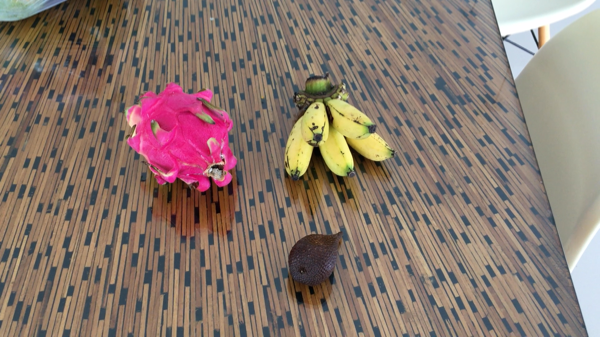banana: (278, 71, 395, 184)
dragon fruit: (127, 86, 241, 193)
snake fruit: (290, 229, 348, 283)
